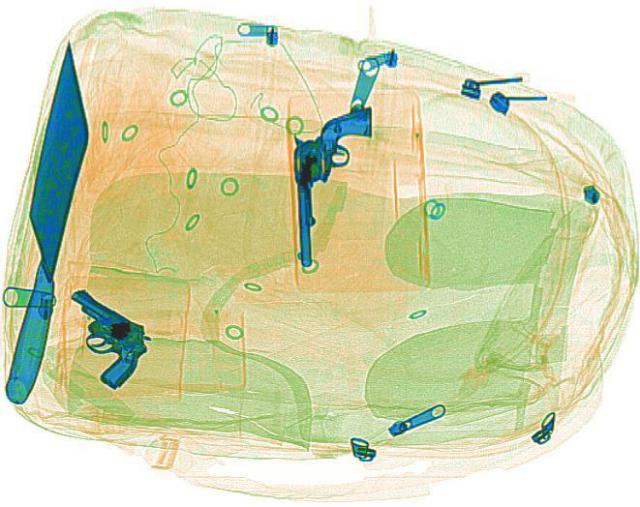Gun: (24, 284, 172, 389), (288, 105, 382, 264)
Knife: (0, 38, 97, 404)
